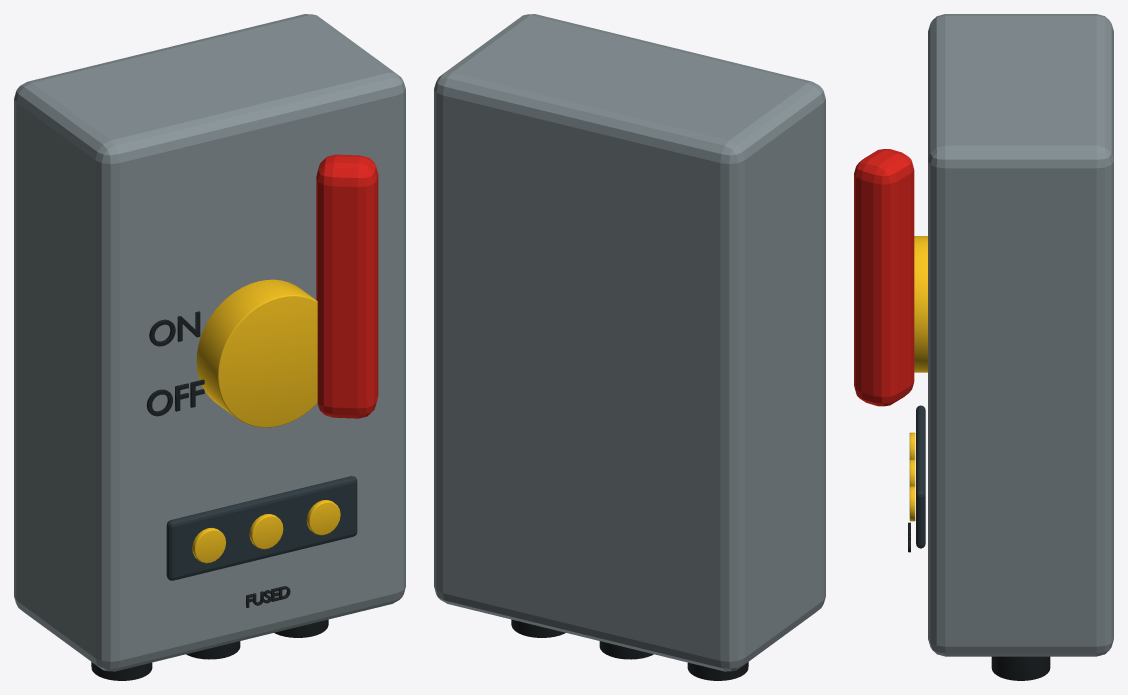
The model's file is fused_disconnect.glb.
3 renders of one model, left to right at view 1: azimuth 30°, elevation 25°; view 2: azimuth 150°, elevation 25°; view 3: azimuth 270°, elevation 25°, orthographic. The views are drawn at different scales.
Parts seen in each view (by area): view 1: DISCONNECT_BODY, KIN_HANDLE, KIN_HANDLE_HUB, FUSE_VIEW_WINDOW, DISCONNECT_LABEL, FUSE_INDICATOR_-0.13, FUSE_INDICATOR_0.13, FUSE_INDICATOR_0, CABLE_GLAND_-0.2; view 2: DISCONNECT_BODY, CABLE_GLAND_-0.2; view 3: DISCONNECT_BODY, KIN_HANDLE, KIN_HANDLE_HUB, FUSE_VIEW_WINDOW, CABLE_GLAND_0.2.
Boxes of the visible parts, box(x1,y1,x2,y2) form: DISCONNECT_BODY: box(14, 14, 405, 671); KIN_HANDLE: box(316, 154, 378, 418); KIN_HANDLE_HUB: box(196, 279, 317, 427); FUSE_VIEW_WINDOW: box(166, 476, 357, 580); DISCONNECT_LABEL: box(146, 311, 204, 416); FUSE_INDICATOR_-0.13: box(192, 527, 226, 563); FUSE_INDICATOR_0.13: box(306, 500, 340, 535); FUSE_INDICATOR_0: box(249, 514, 283, 549); CABLE_GLAND_-0.2: box(91, 662, 152, 680); DISCONNECT_BODY: box(434, 14, 825, 671); CABLE_GLAND_-0.2: box(687, 662, 748, 680); DISCONNECT_BODY: box(928, 14, 1113, 656); KIN_HANDLE: box(854, 149, 914, 406); KIN_HANDLE_HUB: box(914, 236, 927, 372); FUSE_VIEW_WINDOW: box(916, 405, 925, 548); CABLE_GLAND_0.2: box(991, 656, 1050, 680).
Size of the model in its own units: 0.7 by 1.24 by 0.5315.
